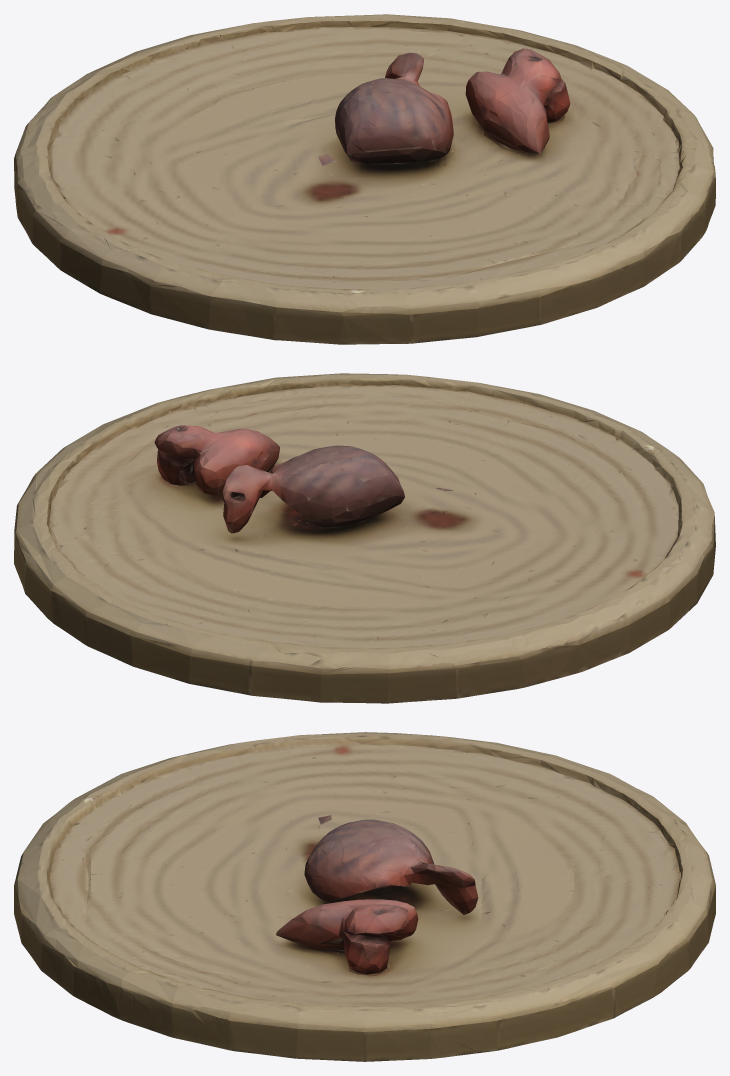
File: steakhouse.glb
3 renders of one model, top to bottom at view 1: azimuth 30°, elevation 25°; view 2: azimuth 150°, elevation 25°; view 3: azimuth 270°, elevation 25°, orthographic.
Visible parts, largest first — view 1: world; view 2: world; view 3: world.
Part boxes in pixels (x1=…): world: x1=14, y1=14, x2=715, y2=344; world: x1=14, y1=373, x2=715, y2=703; world: x1=14, y1=732, x2=715, y2=1061.
Size of the model in its own units: 0.9998 by 0.1547 by 0.9999.
Materials: 1 (1 with a texture image).
